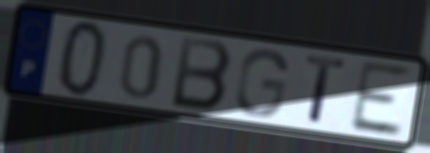0: (54, 19, 110, 99), (117, 33, 170, 100)
B: (168, 33, 234, 115)
E: (346, 58, 412, 139)
G: (232, 46, 291, 119)
T: (304, 52, 350, 128)
